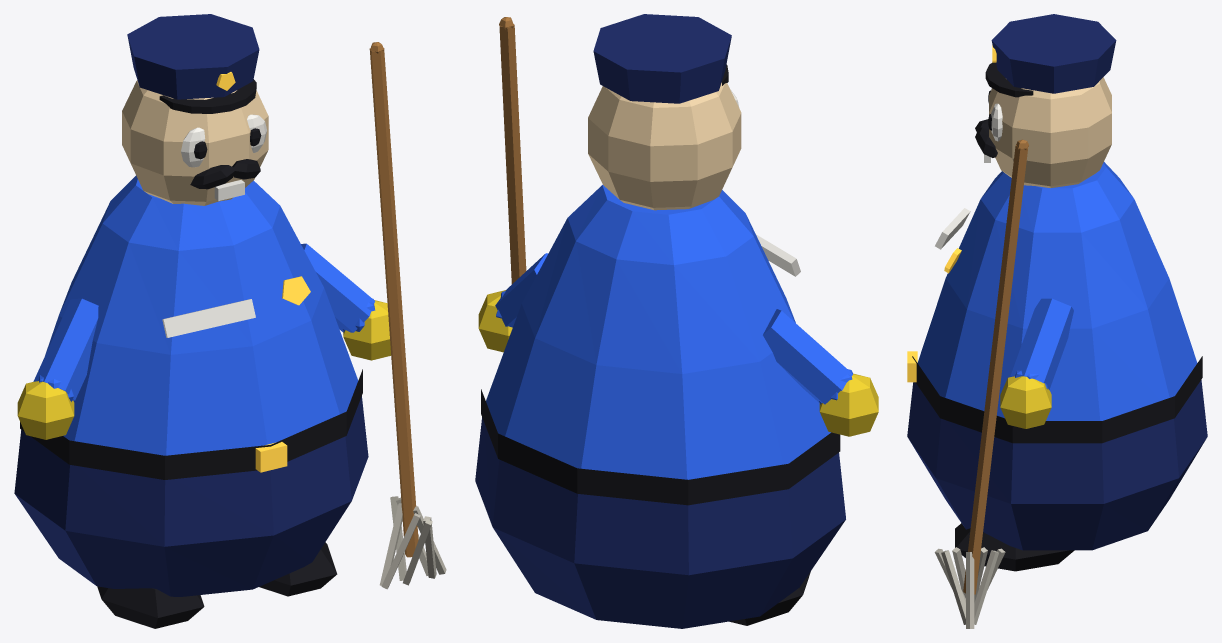
Rendered from npc_don_mopa.glb.
3 views of the same model, side by side, from view 1: azimuth 30°, elevation 25°; view 2: azimuth 150°, elevation 25°; view 3: azimuth 270°, elevation 25° (orthographic). The views are drawn at different scales.
Parts seen in each view (by area): view 1: body_shirt, body_pants, head_skin_staff, cap_cap, props_mop_stick, body_black, arms_shirt, legs_black, arms_rubber_yellow, props_mop_strings, plate_white, face_black (+4 smaller); view 2: body_shirt, body_pants, head_skin_staff, cap_cap, body_black, arms_shirt, props_mop_stick, arms_rubber_yellow, legs_black, plate_white; view 3: body_shirt, body_pants, head_skin_staff, cap_cap, body_black, props_mop_stick, arms_shirt, props_mop_strings, arms_rubber_yellow, legs_black, cap_black, face_black (+1 smaller).
Part boxes in pixels (x1=…): body_shirt: x1=45, y1=175, x2=358, y2=455; body_pants: x1=14, y1=396, x2=368, y2=596; head_skin_staff: x1=122, y1=80, x2=268, y2=205; cap_cap: x1=127, y1=14, x2=259, y2=99; props_mop_stick: x1=369, y1=42, x2=418, y2=557; body_black: x1=20, y1=369, x2=362, y2=479; arms_shirt: x1=33, y1=243, x2=375, y2=401; legs_black: x1=97, y1=542, x2=337, y2=628; arms_rubber_yellow: x1=17, y1=300, x2=390, y2=439; props_mop_strings: x1=379, y1=496, x2=446, y2=589; plate_white: x1=162, y1=299, x2=255, y2=337; face_black: x1=190, y1=128, x2=261, y2=189; body_shirt: x1=486, y1=184, x2=830, y2=479; body_pants: x1=475, y1=417, x2=845, y2=628; head_skin_staff: x1=588, y1=82, x2=741, y2=210; cap_cap: x1=593, y1=14, x2=731, y2=103; body_black: x1=481, y1=389, x2=840, y2=505; arms_shirt: x1=495, y1=253, x2=852, y2=404; props_mop_stick: x1=499, y1=17, x2=526, y2=284; arms_rubber_yellow: x1=478, y1=290, x2=878, y2=436; legs_black: x1=729, y1=571, x2=810, y2=625; plate_white: x1=756, y1=234, x2=800, y2=276; body_shirt: x1=917, y1=162, x2=1197, y2=420; body_pants: x1=907, y1=380, x2=1207, y2=550; head_skin_staff: x1=989, y1=77, x2=1111, y2=188; cap_cap: x1=991, y1=14, x2=1116, y2=93; body_black: x1=912, y1=356, x2=1202, y2=443; props_mop_stick: x1=963, y1=139, x2=1028, y2=594; arms_shirt: x1=1010, y1=298, x2=1073, y2=389; props_mop_strings: x1=934, y1=547, x2=1005, y2=628; arms_rubber_yellow: x1=1000, y1=376, x2=1051, y2=428; legs_black: x1=955, y1=523, x2=1074, y2=571; cap_black: x1=985, y1=62, x2=1033, y2=97; face_black: x1=975, y1=90, x2=997, y2=157.
Bounding box in the file's own units: 1.2 × 1.58 × 0.86.
